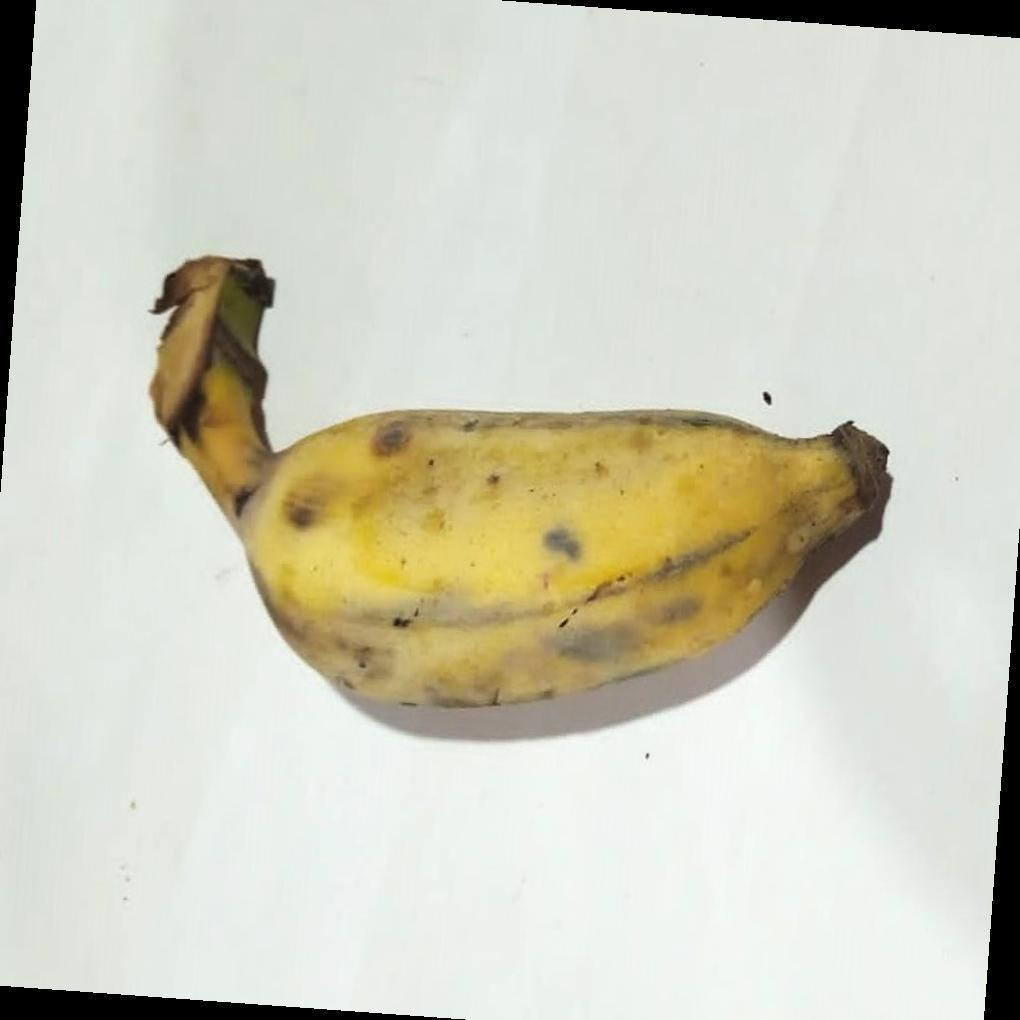Banana Ripe: (131, 306, 964, 778)
